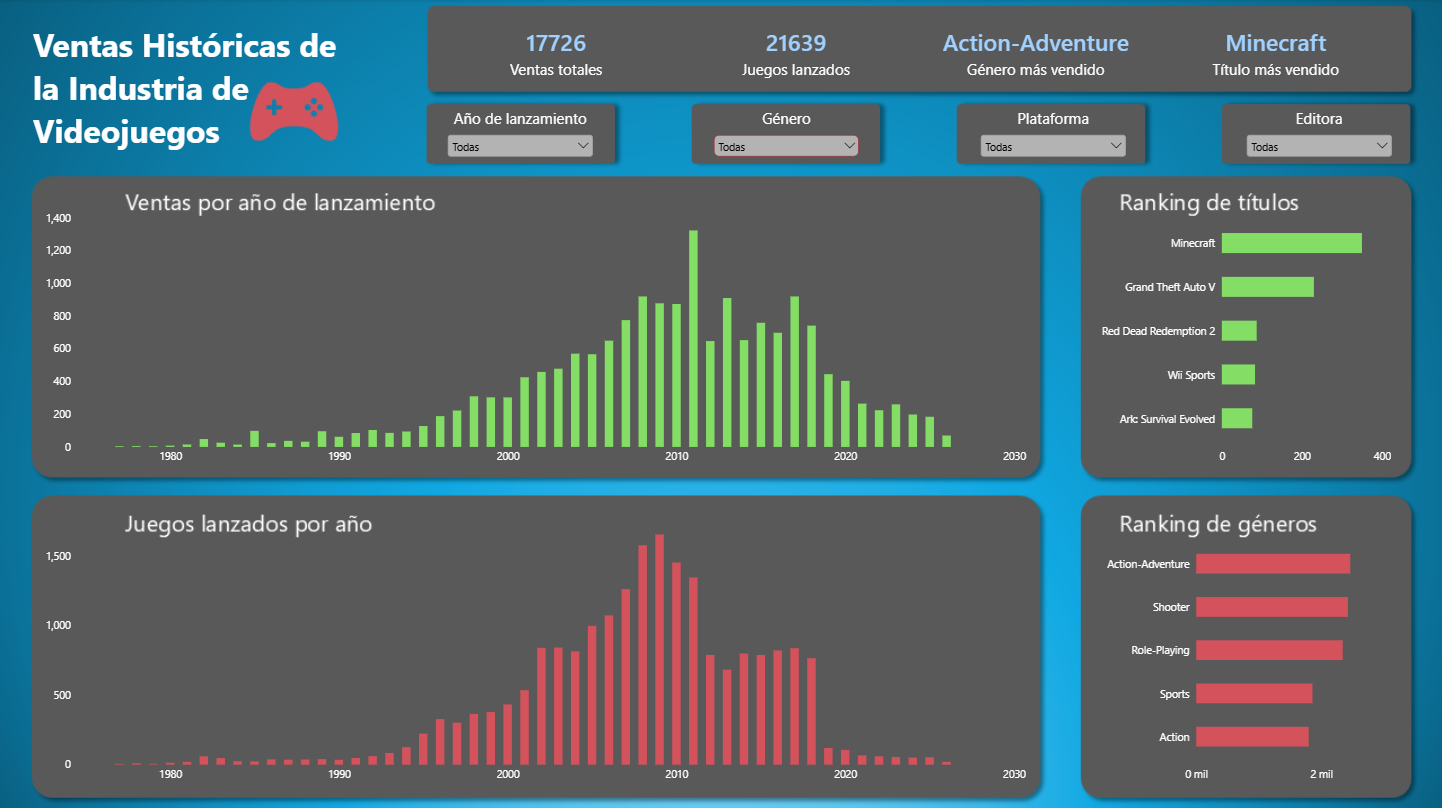

Layout of this report page (visuals, bound fields, positions):
{"tool":"powerbi","page":{"name":"Página 1","canvas":[1920,1080],"ordinal":0},"visuals":[{"type":"columnChart","title":"Ventas totales por año de lanzamiento","fields":{"Category":["sales_ind_clean.year"],"Y":["Sum(sales_ind_clean.units_reported)"]},"box":[45.2,266,1338,373.7],"z":0},{"type":"slicer","title":"Año de lanzamiento","fields":{"Values":["sales_ind_clean.year"]},"box":[591.9,143,203,70],"z":1000},{"type":"slicer","title":"Género","fields":{"Values":["sales_ind_clean.genre"]},"box":[945.7,143,203.5,70.5],"z":2000},{"type":"slicer","title":"Plataforma","fields":{"Values":["sales_ind_clean.console"]},"box":[1300.8,143,203,70],"z":3000},{"type":"slicer","title":"Editora","fields":{"Values":["sales_ind_clean.publisher"]},"box":[1654.6,143,203,70],"z":4000},{"type":"cardVisual","title":"Ventas totales","fields":{"Data":["Sum(sales_ind_clean.units_reported)","CountNonNull(sales_ind_clean.units_reported)","sales_ind_clean.GeneroMasVendido","sales_ind_clean.JuegoMasVendido"]},"box":[566.6,12,1308.8,119.7],"z":5000},{"type":"columnChart","fields":{"Category":["sales_ind_clean.year"],"Y":["CountNonNull(sales_ind_clean.units_reported)"]},"box":[45.2,662.4,1337.9,400],"z":6000},{"type":"barChart","title":"Títulos más exitosos","fields":{"Category":["sales_ind_clean.title"],"Y":["Max(sales_ind_clean.units_reported)"]},"box":[1440.4,266,426.9,373.7],"z":7000},{"type":"barChart","fields":{"Category":["sales_ind_clean.genre"],"Y":["Sum(sales_ind_clean.units_reported)"]},"box":[1448.4,693,425.6,369.8],"z":8000},{"type":"textbox","box":[45.2,12,416.3,210.1],"z":9000}]}

Visuals, with their boxes in screenshot pixels (x1, y1, x2, y2), scaled from the page's 1920x1080 canvas onto the 1442x808 screenshot:
"Ventas totales por año de lanzamiento" columnChart: (34,199,1039,479)
"Año de lanzamiento" slicer: (445,107,597,159)
"Género" slicer: (710,107,863,160)
"Plataforma" slicer: (977,107,1129,159)
"Editora" slicer: (1243,107,1395,159)
"Ventas totales" cardVisual: (426,9,1409,99)
columnChart - sales_ind_clean.year x CountNonNull(sales_ind_clean.units_reported): (34,496,1039,795)
"Títulos más exitosos" barChart: (1082,199,1402,479)
barChart - sales_ind_clean.genre x Sum(sales_ind_clean.units_reported): (1088,518,1407,795)
textbox: (34,9,347,166)
